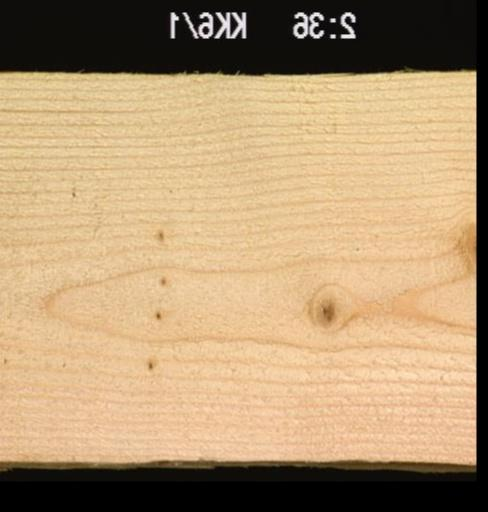small_knot: (141, 304, 167, 327), (135, 350, 157, 377), (149, 221, 169, 244), (151, 267, 170, 290)
sound_knot: (298, 281, 353, 334), (457, 210, 474, 269)
